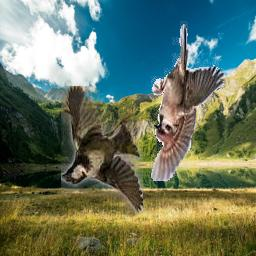Sparrow: (152, 22, 227, 183), (61, 87, 143, 214)
